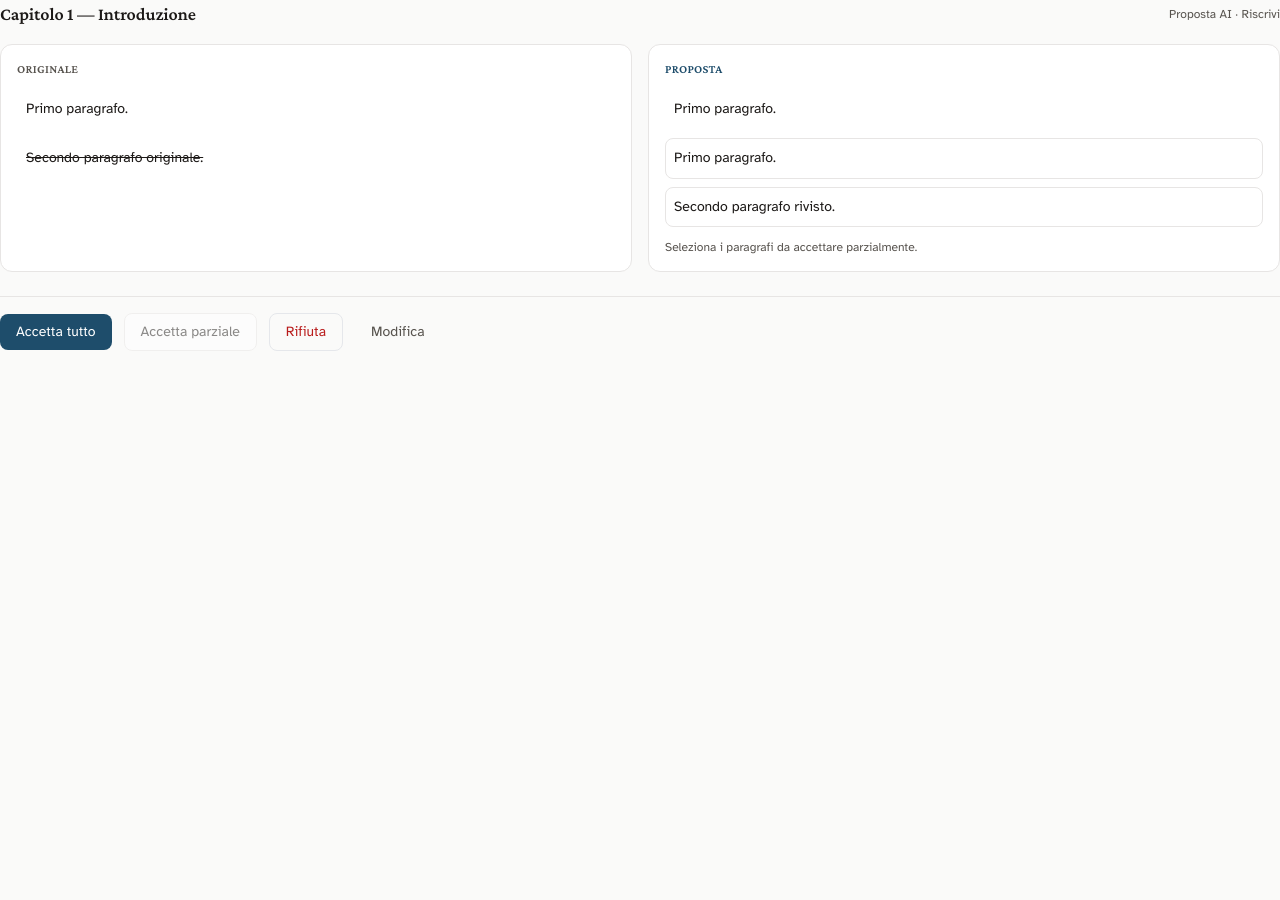
ReviewCompare › rejects proposal with operator confirm without chapter update
Click the button "Rifiuta" at [306, 332], box left=269, top=313, right=343, bottom=351
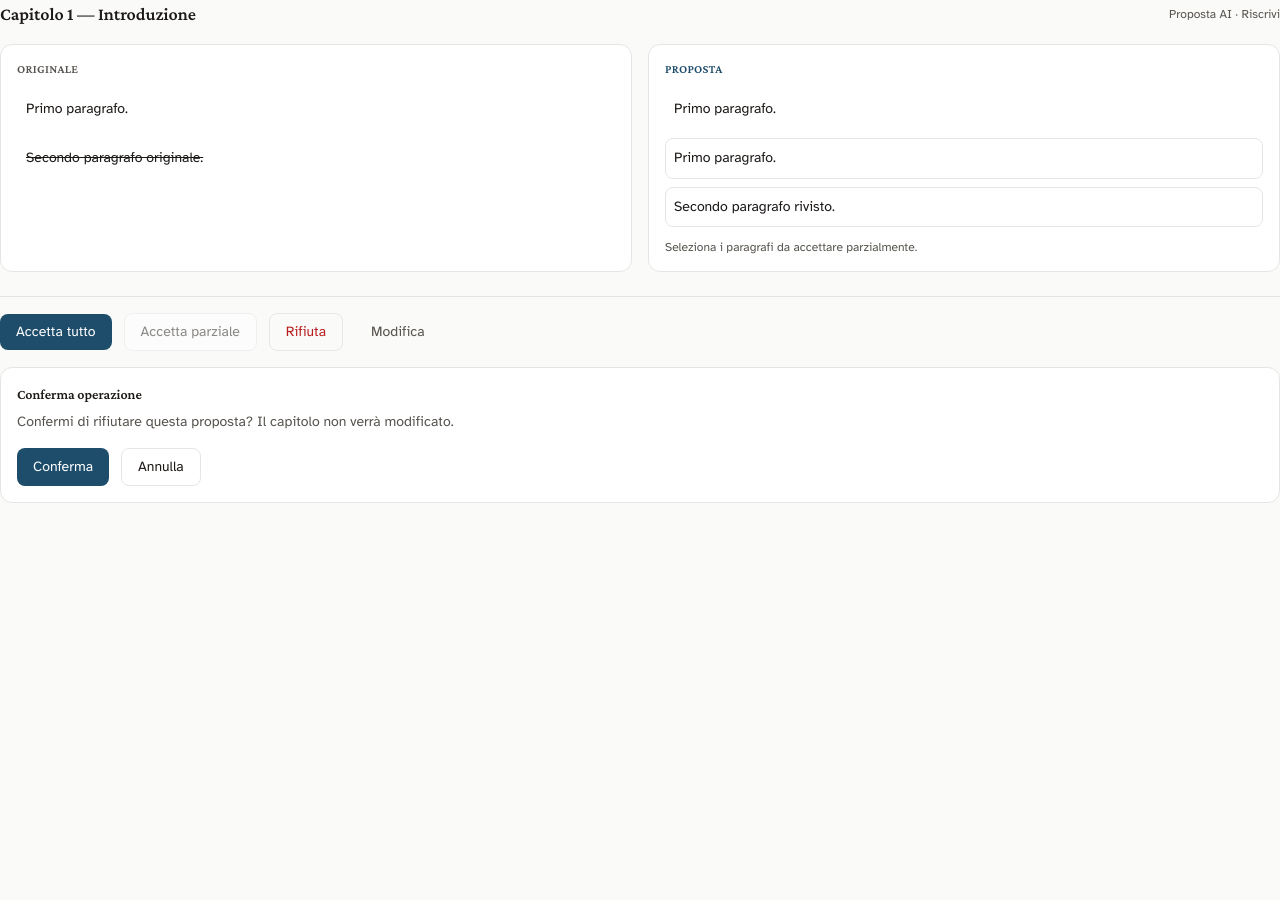
Click the button with test id "review-confirm-yes" at [63, 467], box left=17, top=448, right=109, bottom=486
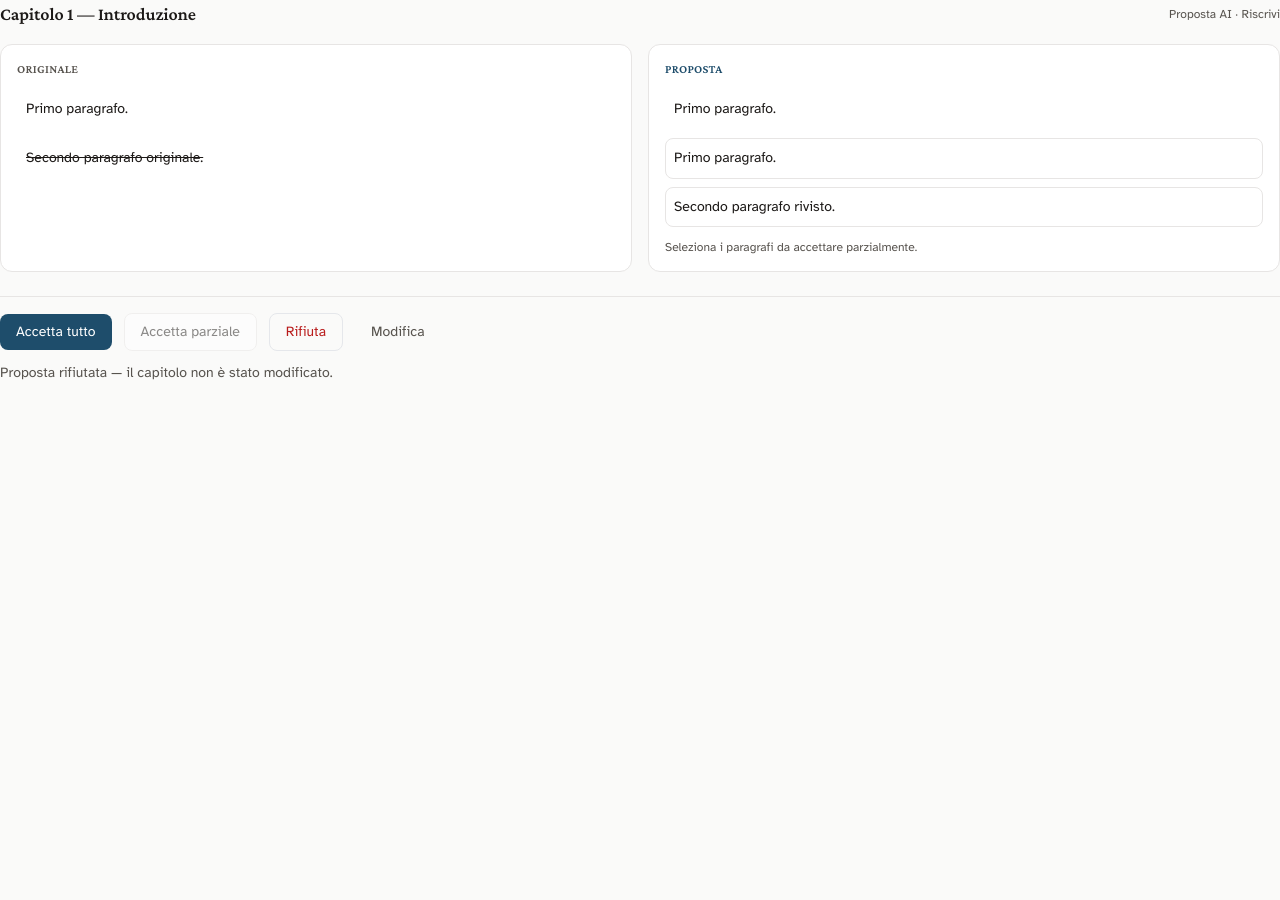
Expected: the message shows "rifiutata", left=0, top=364, right=333, bottom=381
